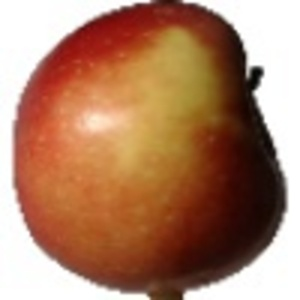maçã braeburn: (11, 2, 287, 293)
